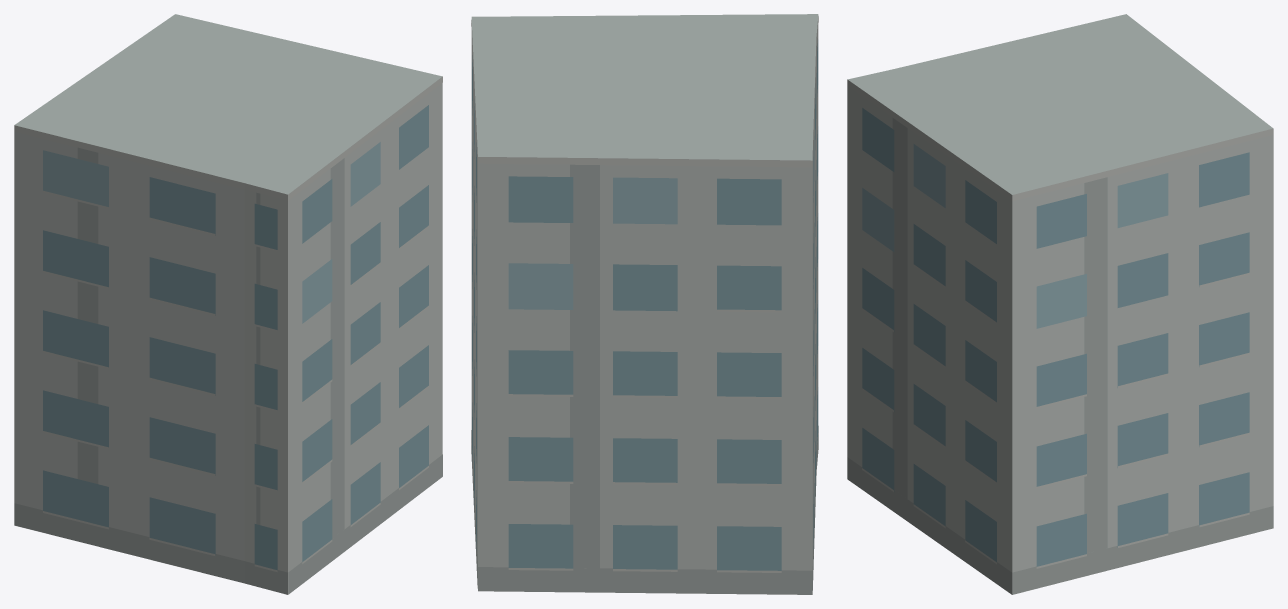
File: survey-upis-32502316.glb
3 renders of one model, left to right at view 1: azimuth 30°, elevation 25°; view 2: azimuth 150°, elevation 25°; view 3: azimuth 270°, elevation 25°, orthographic. The views are drawn at different scales.
Parts seen in each view (by area): view 1: survey-upis-32502316.tmp; view 2: survey-upis-32502316.tmp; view 3: survey-upis-32502316.tmp.
Boxes of the visible parts, x1,y1,x2,y2 form: survey-upis-32502316.tmp: [14, 14, 442, 594]; survey-upis-32502316.tmp: [471, 14, 818, 594]; survey-upis-32502316.tmp: [847, 14, 1273, 594].
Size of the model in its own units: 14.82 by 15.25 by 14.74.
